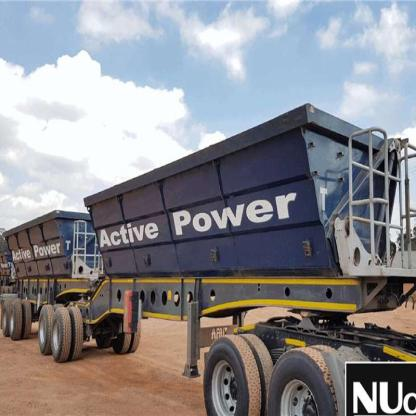dump_truck: (7, 98, 415, 415)
